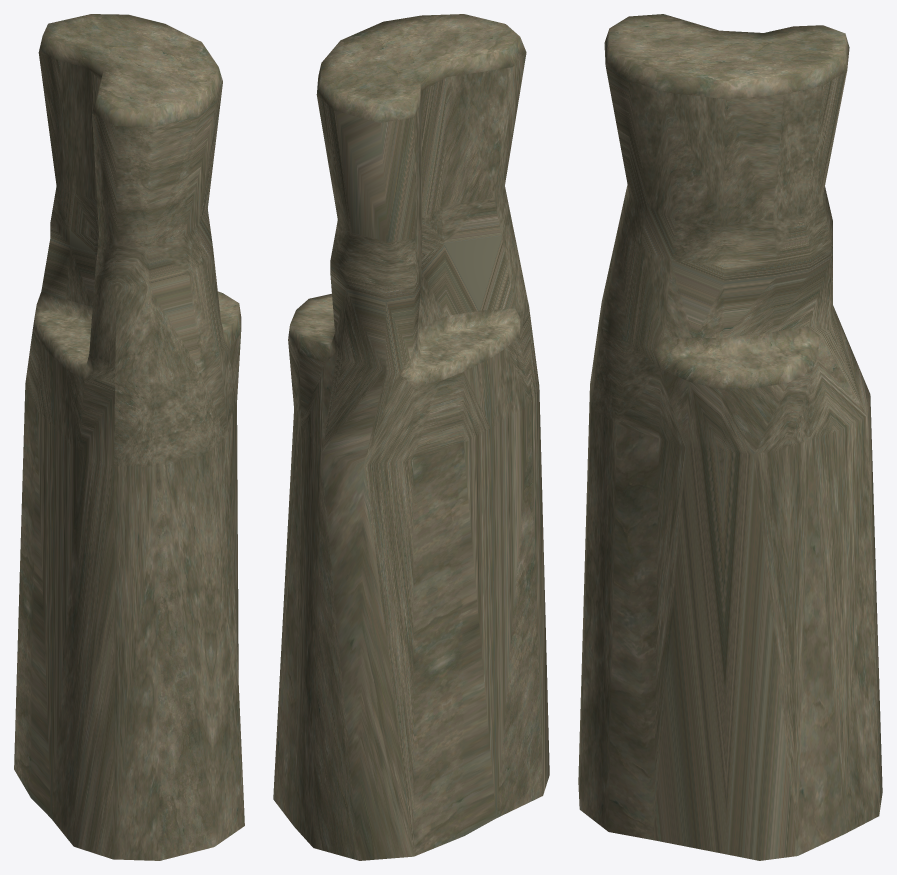
The model's file is OVERHILL_A_01_CAVE_PLATFORM01.fbx.
3 renders of one model, left to right at view 1: azimuth 30°, elevation 25°; view 2: azimuth 150°, elevation 25°; view 3: azimuth 270°, elevation 25°, orthographic. The views are drawn at different scales.
Visible parts, largest first — view 1: OVERHILL_A_01_CAVE_PLATFORM01; view 2: OVERHILL_A_01_CAVE_PLATFORM01; view 3: OVERHILL_A_01_CAVE_PLATFORM01.
Part boxes in pixels (left/top/right/bottom): OVERHILL_A_01_CAVE_PLATFORM01: left=14, top=14, right=244, bottom=860; OVERHILL_A_01_CAVE_PLATFORM01: left=273, top=14, right=549, bottom=860; OVERHILL_A_01_CAVE_PLATFORM01: left=578, top=14, right=882, bottom=860.
Size of the model in its own units: 49149 by 166923 by 60753.
1 material, 1 textured.
